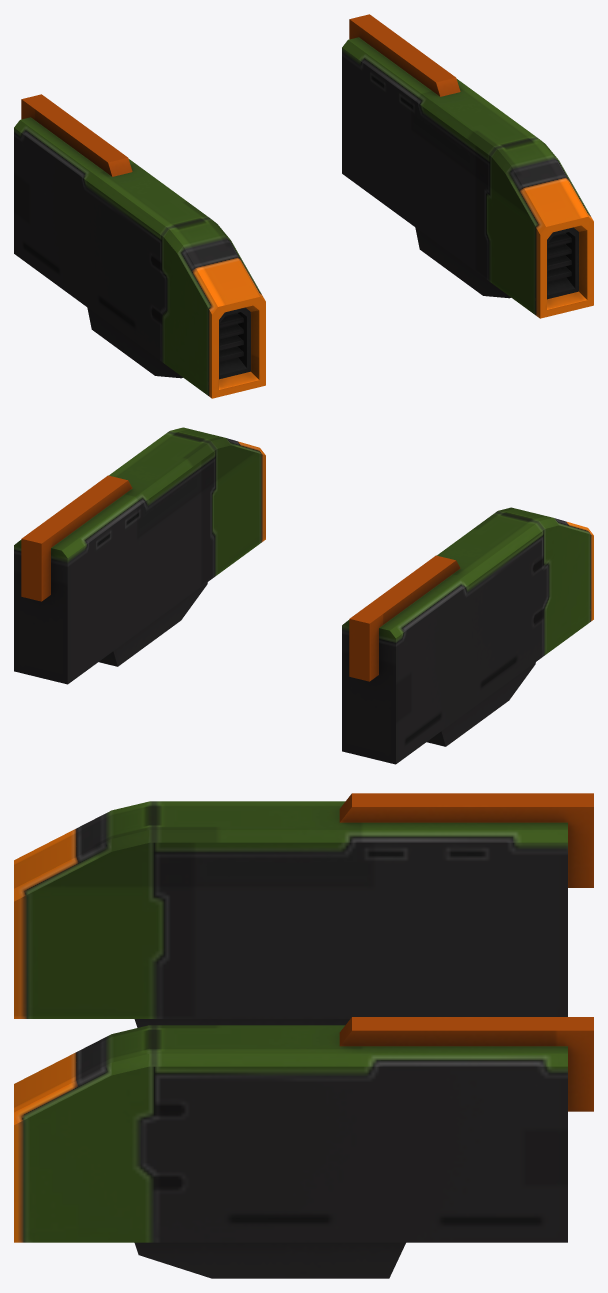
Rendered from Mod-R_blue.FBX.
The picture shows the model from 3 angles, top to bottom: view 1: azimuth 30°, elevation 25°; view 2: azimuth 150°, elevation 25°; view 3: azimuth 270°, elevation 25°; orthographic projection. The views are drawn at different scales.
Visible parts, largest first — view 1: Mod-R_Right, Mod-R_Left; view 2: Mod-R_Right, Mod-R_Left; view 3: Mod-R_Left, Mod-R_Right.
Part boxes in pixels (<box>): Mod-R_Right: <box>14,94,265,398</box>; Mod-R_Left: <box>342,14,593,318</box>; Mod-R_Right: <box>342,507,593,764</box>; Mod-R_Left: <box>14,427,265,684</box>; Mod-R_Left: <box>14,1017,593,1278</box>; Mod-R_Right: <box>14,793,593,1027</box>.
Bounding box in the file's own units: 4315 × 4061 × 1901.
